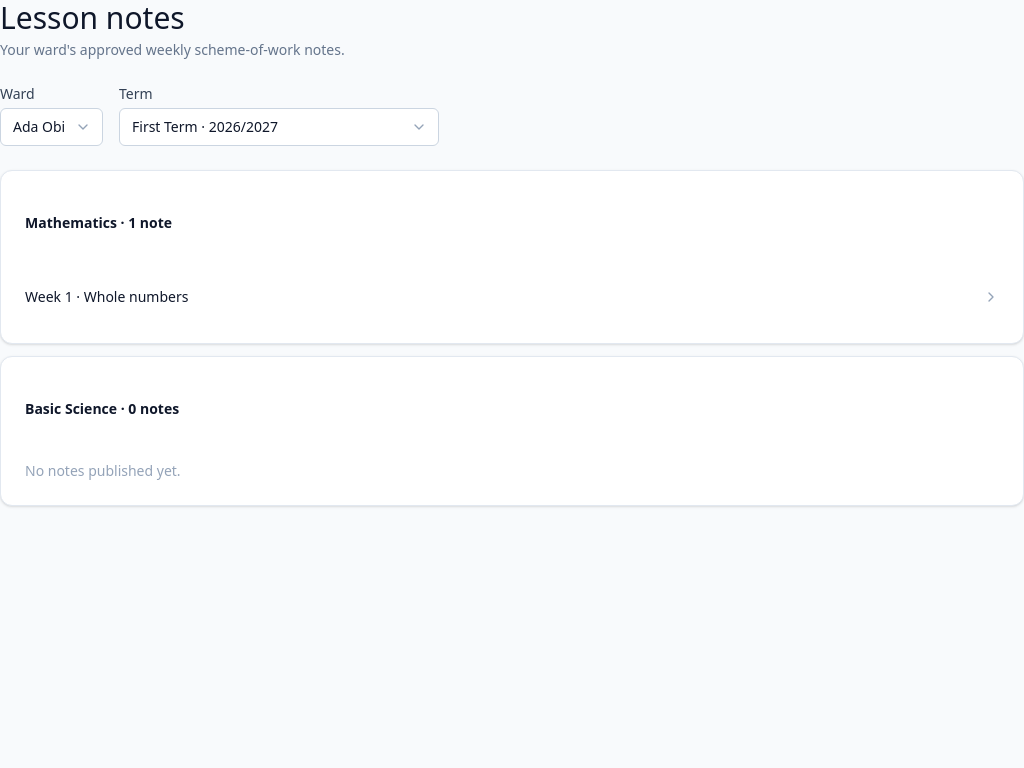
WardLessonNotesPage › opens a note read-only in a sheet when its week row is tapped
Check: the text "Week 1 · Whole numbers" is shown, box [25,287,188,307]
Click the button "Week 1 · Whole numbers" at [45, 296], box [25,275,999,319]
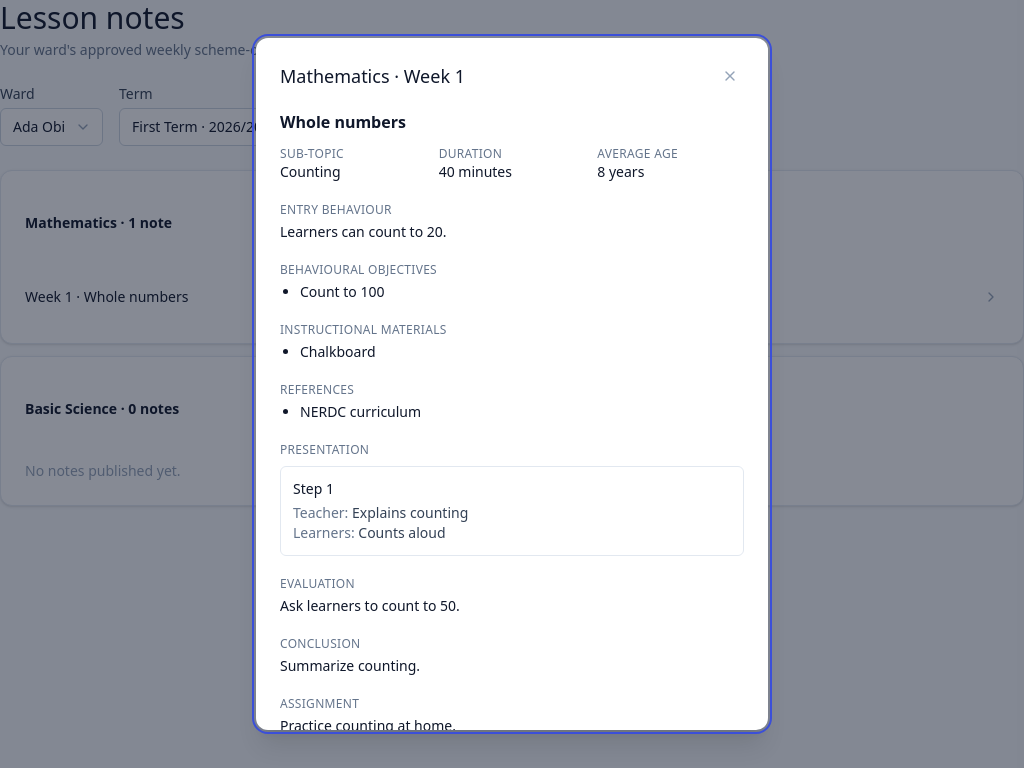
Check: the text "Counting" is shown, box [280,162,341,181]
Check: the text "Ask learners to count to 50." is shown, box [280,596,460,615]
